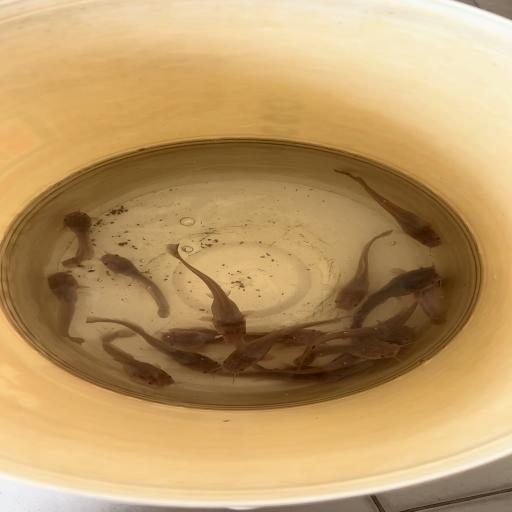lele: (330, 168, 442, 250), (221, 313, 362, 372), (84, 316, 222, 374), (165, 244, 248, 340), (346, 265, 440, 329), (293, 324, 416, 371), (329, 229, 394, 312), (97, 254, 171, 319), (98, 328, 176, 388), (172, 324, 330, 346), (288, 339, 406, 366), (46, 271, 86, 345), (256, 353, 364, 376), (355, 300, 422, 337), (208, 366, 350, 382), (158, 330, 262, 351), (58, 212, 94, 268), (412, 281, 447, 326)
